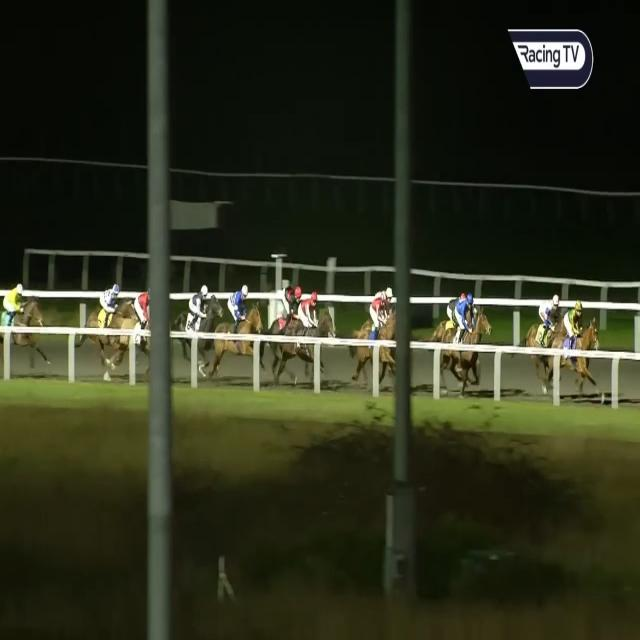horses-racing: (81, 280, 143, 360), (173, 280, 232, 356), (218, 280, 262, 381), (554, 298, 596, 402), (120, 286, 170, 362), (450, 291, 490, 382), (294, 294, 336, 379), (528, 280, 568, 366), (0, 283, 43, 362), (274, 271, 308, 364), (440, 277, 480, 348), (376, 284, 398, 331), (370, 291, 387, 348)
